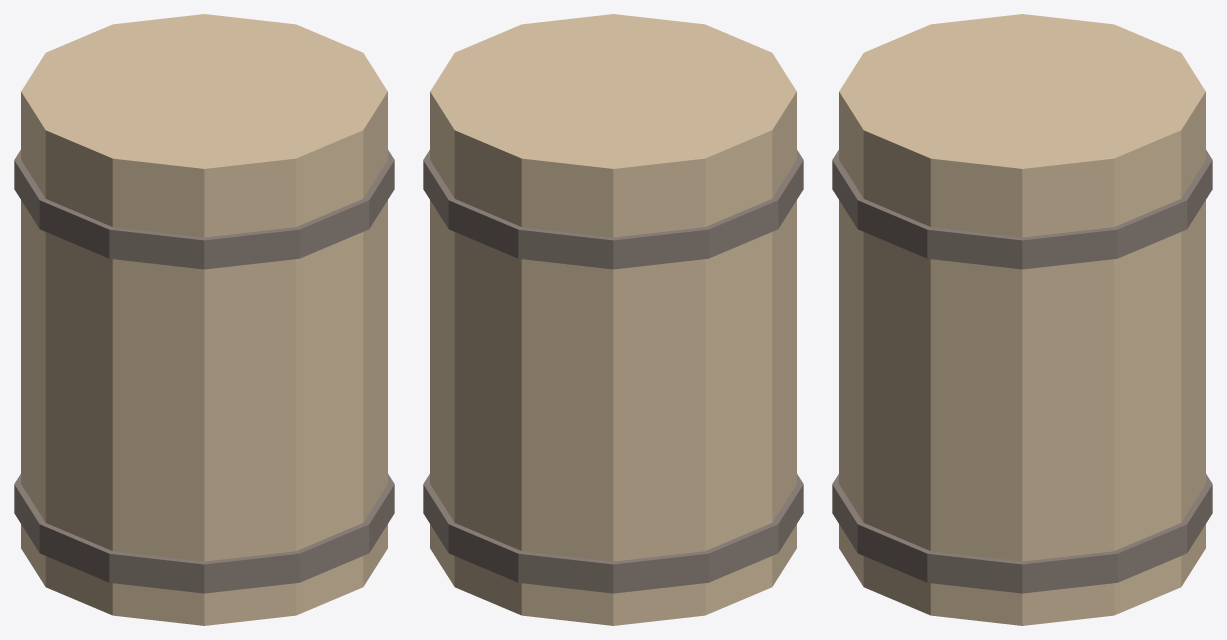
File: barrel.glb
3 renders of one model, left to right at view 1: azimuth 30°, elevation 25°; view 2: azimuth 150°, elevation 25°; view 3: azimuth 270°, elevation 25°, orthographic.
Visible parts, largest first — view 1: Barrel, Hoop, Hoop.001; view 2: Barrel, Hoop, Hoop.001; view 3: Barrel, Hoop, Hoop.001.
Boxes of the visible parts, x1,y1,x2,y2 form: Barrel: (21,14,387,625); Hoop: (14,474,394,593); Hoop.001: (14,150,394,269); Barrel: (430,14,796,625); Hoop: (423,474,803,593); Hoop.001: (423,150,803,269); Barrel: (839,14,1205,625); Hoop: (832,474,1212,593); Hoop.001: (832,150,1212,269).
Bounding box in the file's own units: 0.83 × 1.1 × 0.83.
